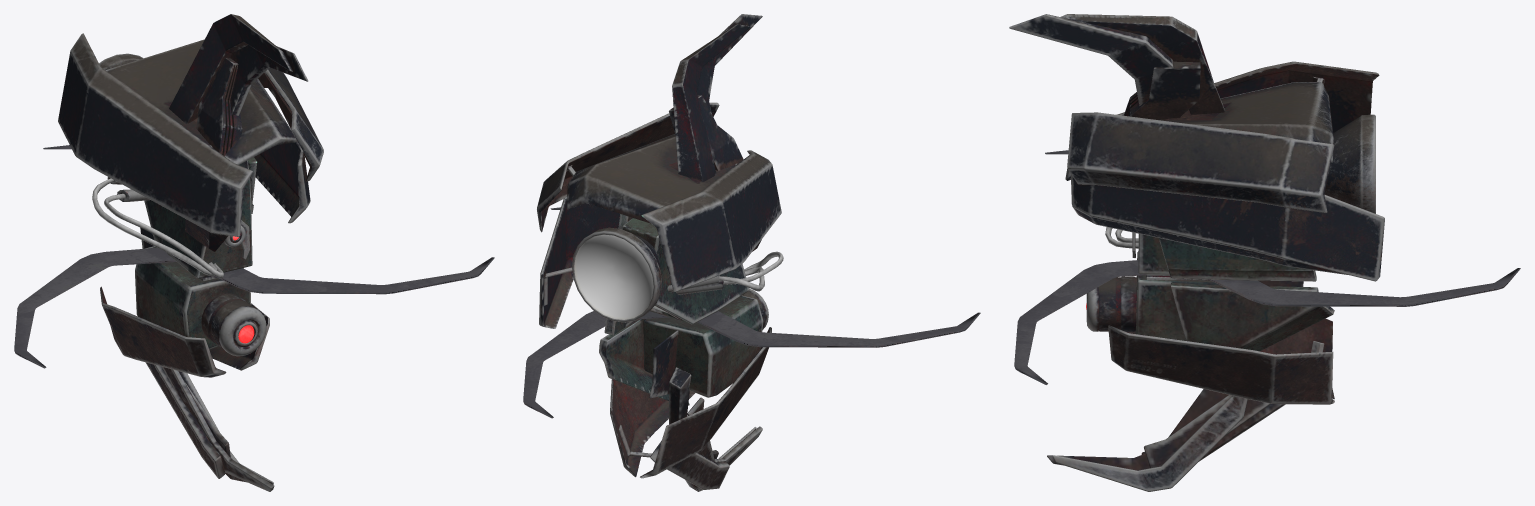
Rendered from hl2_manhack.glb.
3 renders of one model, left to right at view 1: azimuth 30°, elevation 25°; view 2: azimuth 150°, elevation 25°; view 3: azimuth 270°, elevation 25°, orthographic. The views are drawn at different scales.
Visible parts, largest first — view 1: g; view 2: g; view 3: g.
Boxes of the visible parts, x1,y1,x2,y2 form: g: (14, 14, 494, 491); g: (523, 14, 980, 491); g: (1009, 14, 1520, 491).
Bounding box in the file's own units: 2 × 1.92 × 1.84.
1 material, 1 textured.
